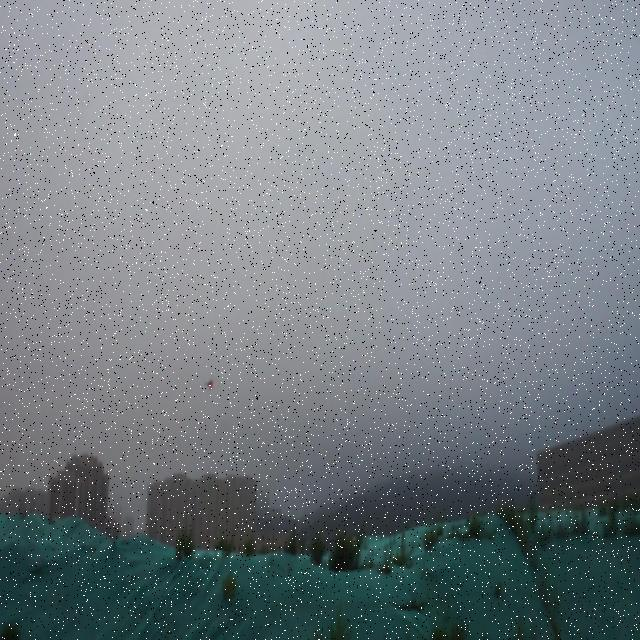UAV: (205, 380, 216, 390)
